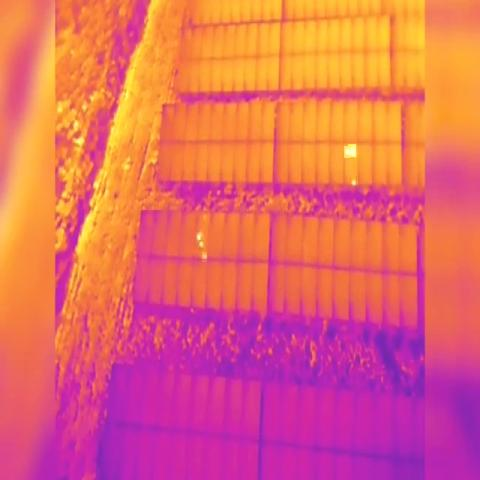fault: (348, 144, 356, 157), (344, 146, 350, 158), (352, 176, 358, 187), (196, 232, 202, 243), (199, 240, 204, 250), (202, 252, 207, 262)
